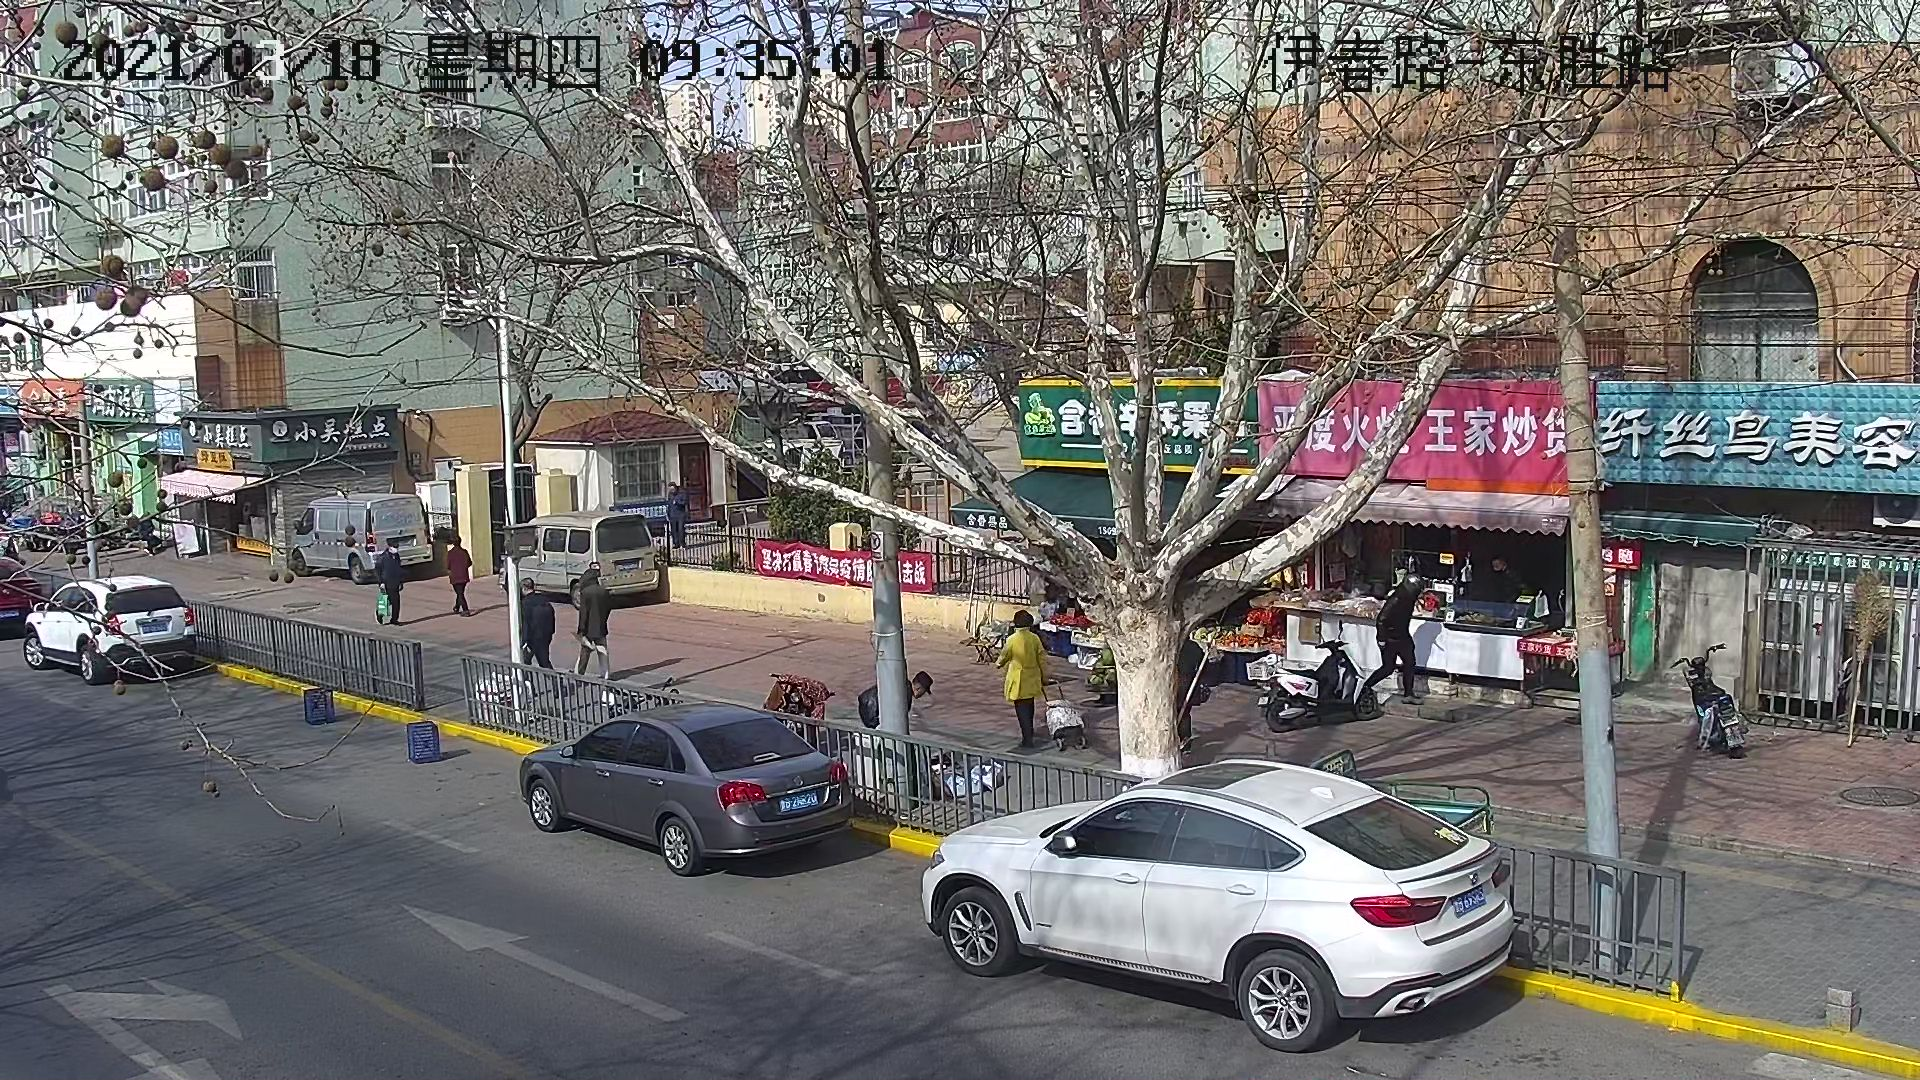chair: (967, 636, 996, 666)
